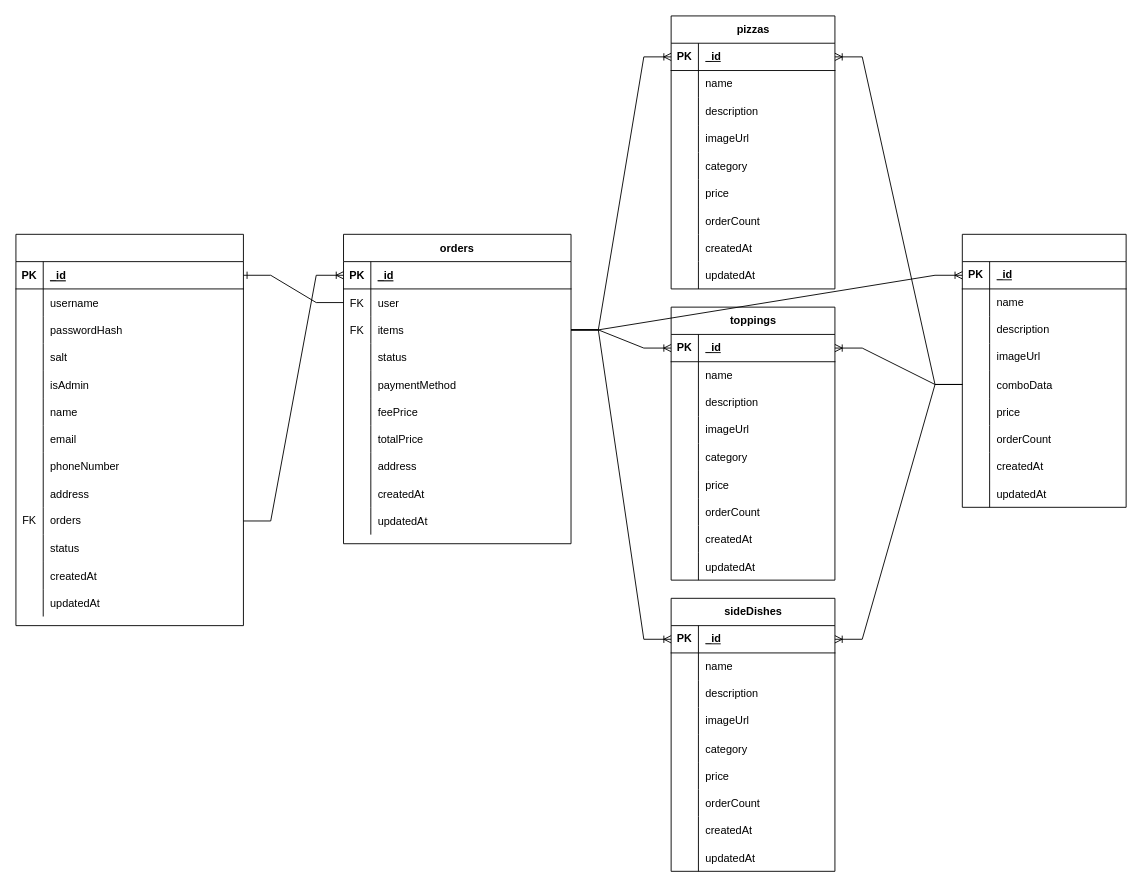
Some shapes in this 1142 by 887 pixel diagram are drawn without their labels. Here are the shapes that lost their labels. From the top down, the box of each, then its label:
(961, 233, 1126, 507): combos
(15, 233, 243, 626): users
